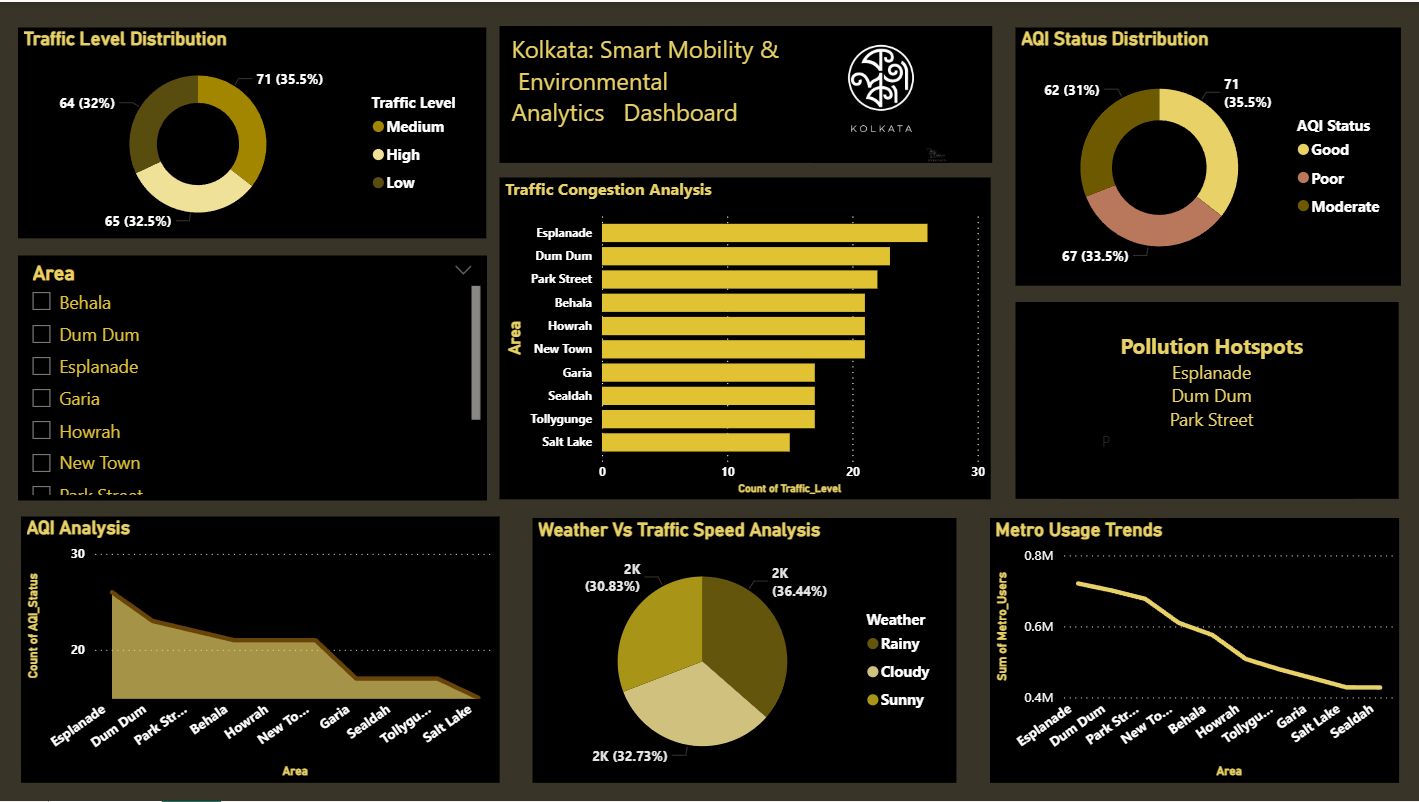

The dashboard page shown, as its layout file describes it:
{"tool":"powerbi","page":{"name":"Page 1","canvas":[1280,720],"ordinal":0},"visuals":[{"type":"clusteredBarChart","title":"Traffic Congestion Analysis","fields":{"Category":["Sheet1.Area"],"Y":["CountNonNull(Sheet1.Traffic_Level)"]},"box":[450,157.1,442.9,272.9],"z":0},{"type":"areaChart","title":"AQI   Analysis","fields":{"Category":["Sheet1.Area"],"Y":["CountNonNull(Sheet1.AQI_Status)"]},"box":[18.6,464.3,431.4,240],"z":1000},{"type":"lineChart","title":"Metro Usage Trends","fields":{"Category":["Sheet1.Area"],"Y":["Sum(Sheet1.Metro_Users)"]},"box":[891.7,465,368.3,238.3],"z":2000},{"type":"pieChart","title":"Weather Vs Traffic Speed Analysis","fields":{"Y":["Sum(Sheet1.Average_Traffic_Speed)"],"Category":["Sheet1.Weather"]},"box":[480,465,381.7,238.3],"z":3000},{"type":"donutChart","title":"Traffic Level Distribution","fields":{"Category":["Sheet1.Traffic_Level"],"Y":["CountNonNull(Sheet1.Traffic_Level)"]},"box":[17.1,22.9,412.9,424.3],"z":4000},{"type":"shape","box":[915,270,345,177.5],"z":5000},{"type":"textbox","box":[987.5,292.5,207.5,137.5],"z":6000},{"type":"donutChart","title":"AQI Status Distribution","fields":{"Category":["Sheet1.AQI_Status"],"Y":["CountNonNull(Sheet1.AQI_Status)"]},"box":[915,22.5,347.5,232.5],"z":7000},{"type":"textbox","box":[449.5,22.1,444.2,123.2],"z":8000},{"type":"image","box":[708.4,22.1,171.6,123.2],"z":9000}]}

Visuals, with their boxes in screenshot pixels (x1, y1, x2, y2), scaled from the page's 1280x720 canvas onto the 1419x802 screenshot:
"Traffic Congestion Analysis" clusteredBarChart: <box>499,175,990,479</box>
"AQI   Analysis" areaChart: <box>21,517,499,785</box>
"Metro Usage Trends" lineChart: <box>989,518,1397,783</box>
"Weather Vs Traffic Speed Analysis" pieChart: <box>532,518,955,783</box>
"Traffic Level Distribution" donutChart: <box>19,26,477,498</box>
shape: <box>1014,301,1397,498</box>
textbox: <box>1095,326,1325,479</box>
"AQI Status Distribution" donutChart: <box>1014,25,1400,284</box>
textbox: <box>498,25,991,162</box>
image: <box>785,25,976,162</box>
